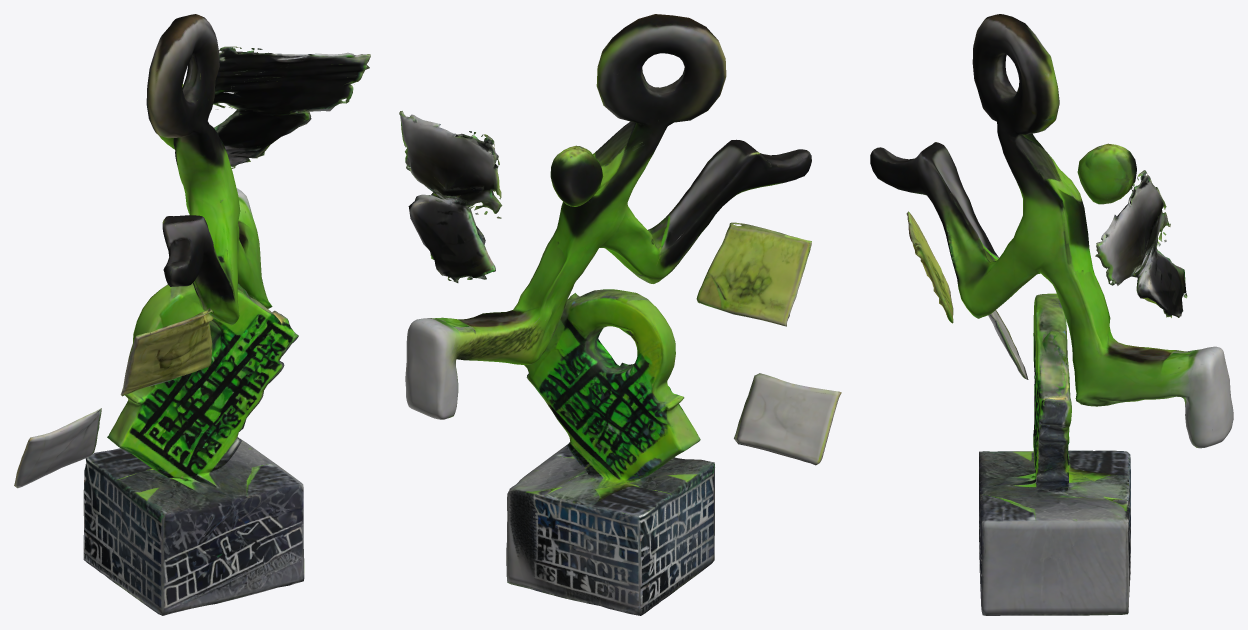
File: propaliprojekt_ar.glb
3 views of the same model, side by side, from view 1: azimuth 30°, elevation 25°; view 2: azimuth 150°, elevation 25°; view 3: azimuth 270°, elevation 25° (orthographic). The views are drawn at different scales.
Visible parts, largest first — view 1: Balancing_Act_0528183416_texture.001; view 2: Balancing_Act_0528183416_texture.001; view 3: Balancing_Act_0528183416_texture.001.
Part boxes in pixels (bbox=[...]): Balancing_Act_0528183416_texture.001: bbox=[14, 14, 370, 615]; Balancing_Act_0528183416_texture.001: bbox=[399, 14, 841, 615]; Balancing_Act_0528183416_texture.001: bbox=[870, 14, 1233, 615].
Bounding box in the file's own units: 2.56 × 3.53 × 2.11.
1 material, 1 textured.
